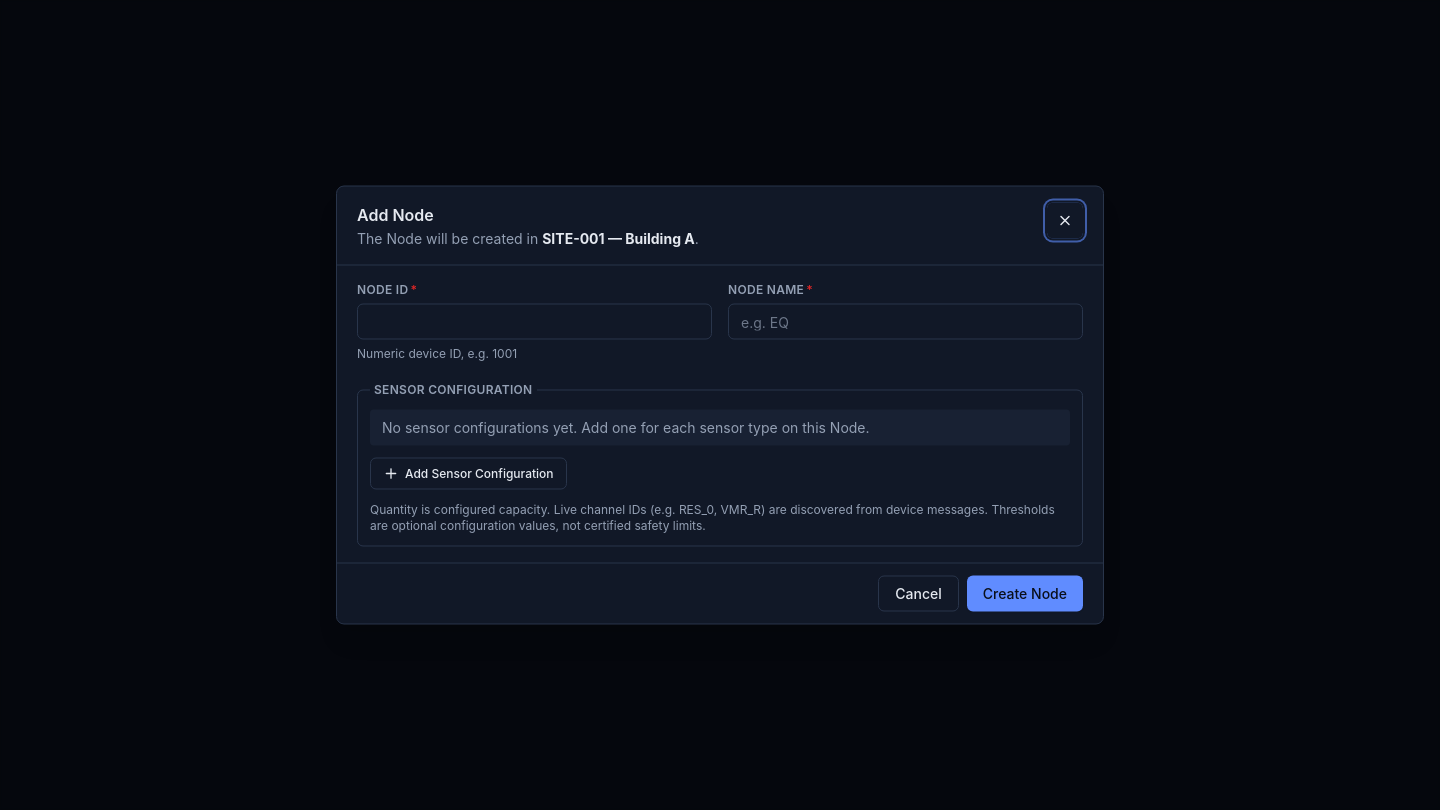
Test: Add Node modal › server error keeps the modal open with values preserved
The image size is (1440, 810).
Type "1001" into the field labelled "Node ID*".
click(534, 322); type("1001")  # box [357,304,712,340]
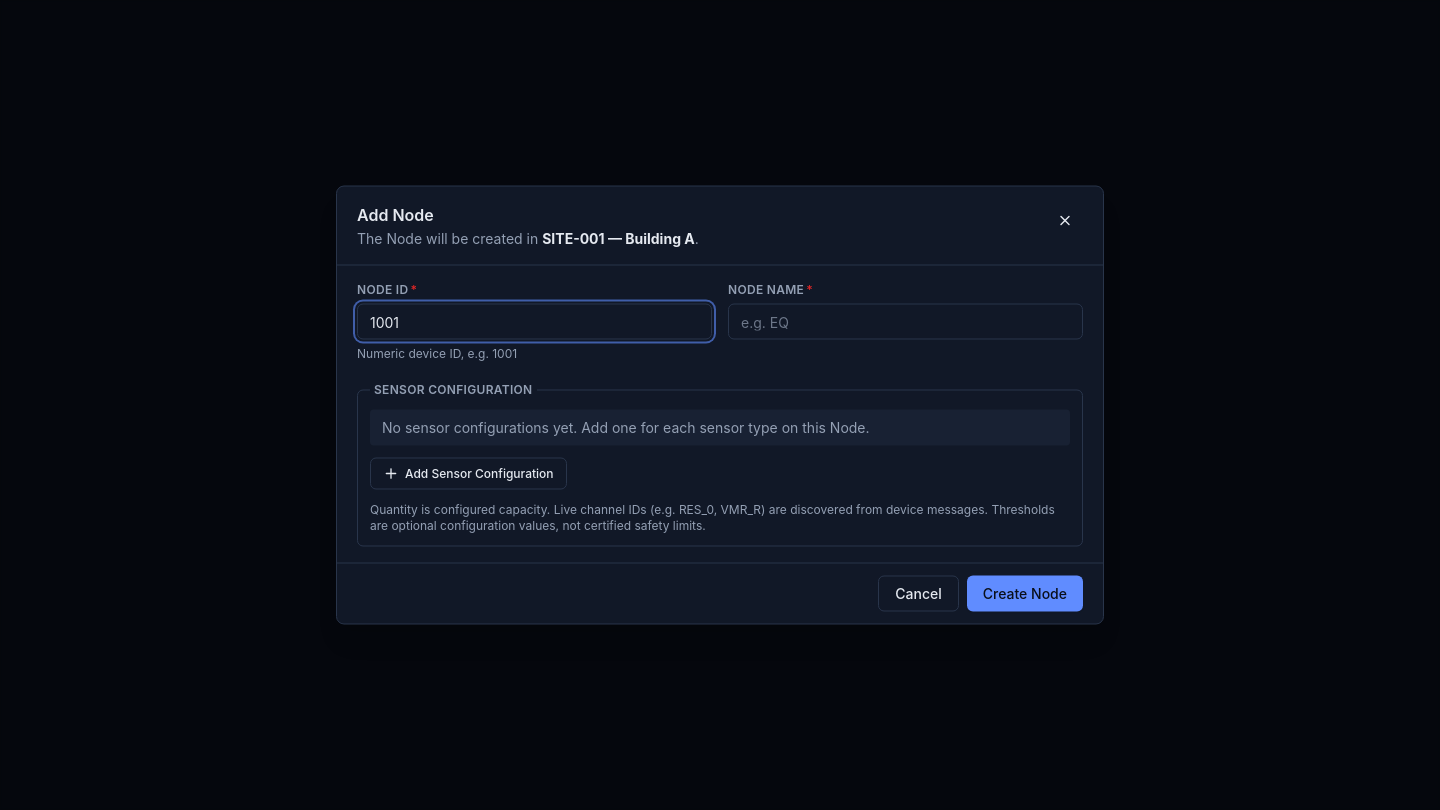
Type "EQ" into the field labelled "Node Name*".
click(906, 322); type("EQ")  # box [728,304,1083,340]
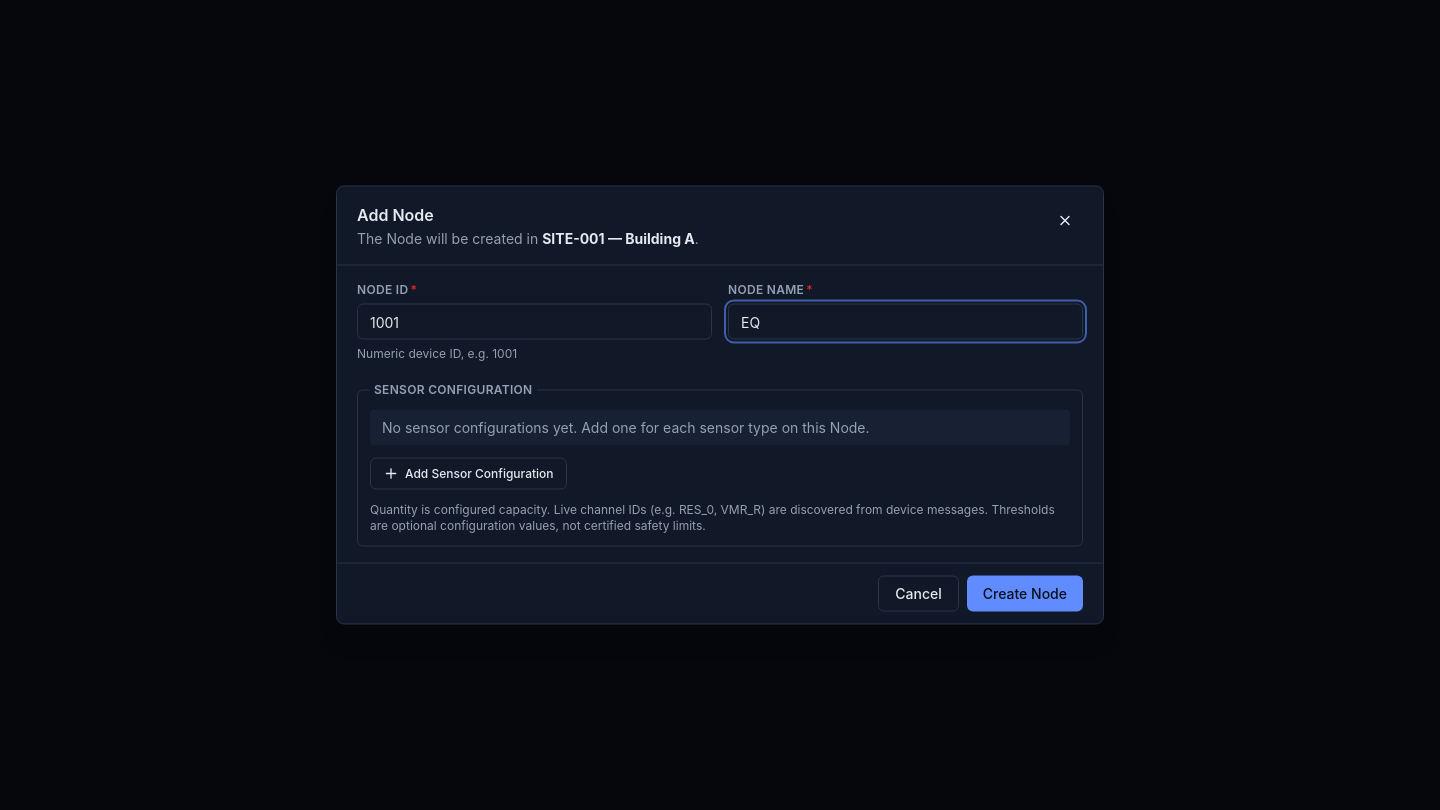
Click the button "Create Node".
click(1025, 594)  # box [967,576,1083,612]
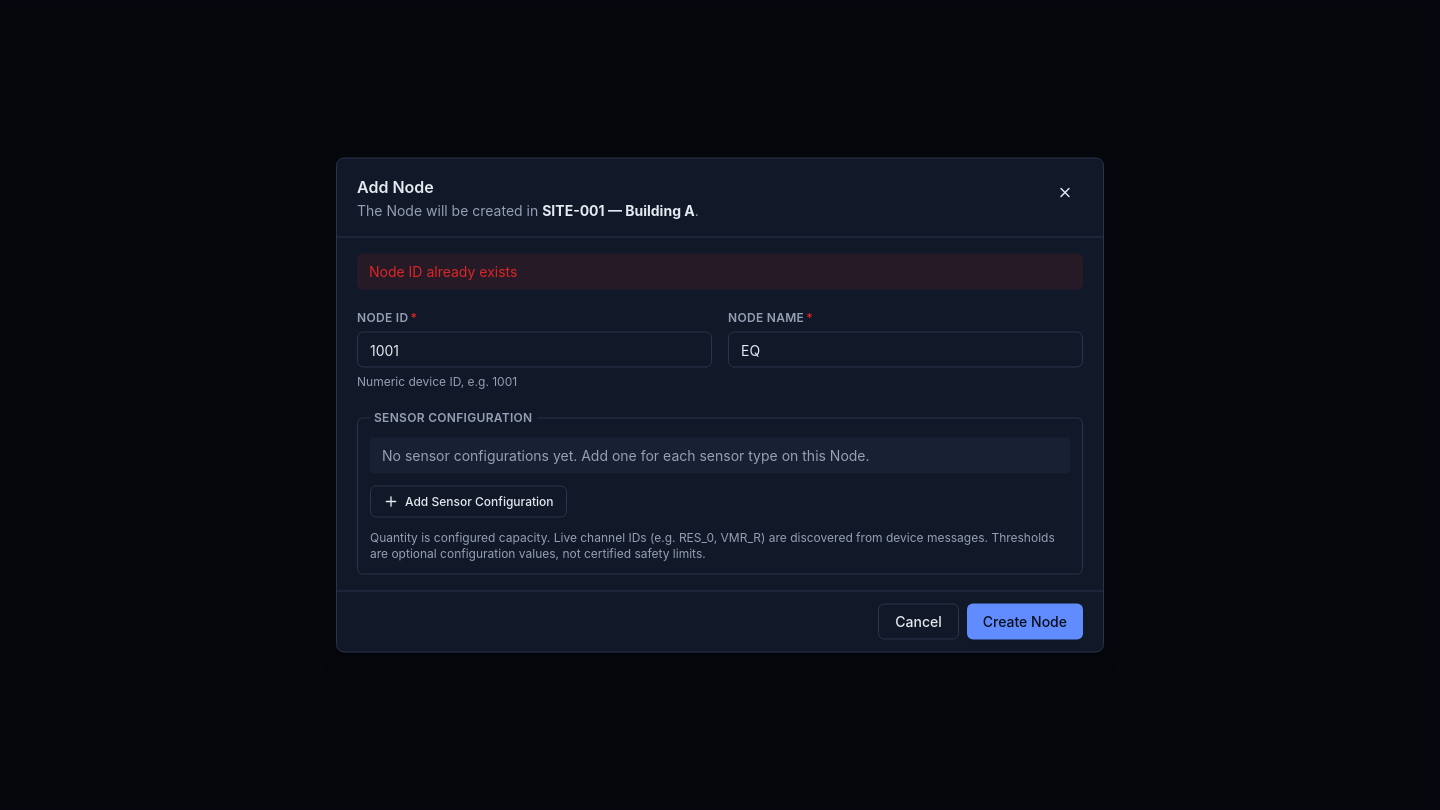
expect the message reads "Node ID already exists": met, box [369,262,517,280]
